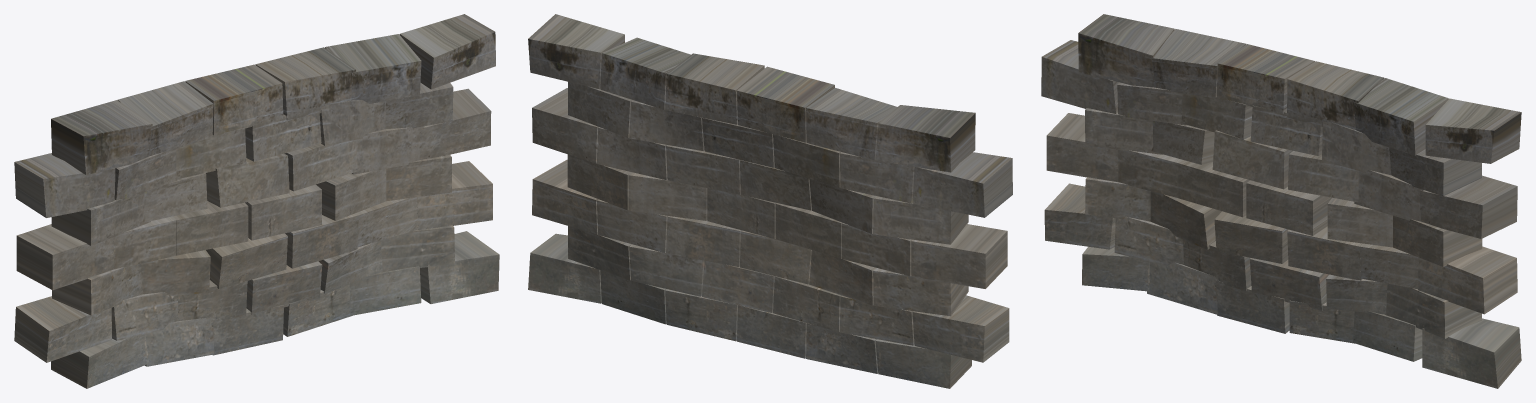
File: stone_wall.fbx
3 views of the same model, side by side, from view 1: azimuth 30°, elevation 25°; view 2: azimuth 150°, elevation 25°; view 3: azimuth 330°, elevation 25° (orthographic).
Parts seen in each view (by area): view 1: stone_wall; view 2: stone_wall; view 3: stone_wall.
Part boxes in pixels (<box>): stone_wall: <box>14,14,499,388</box>; stone_wall: <box>528,14,1012,388</box>; stone_wall: <box>1041,14,1521,388</box>.
Bounding box in the file's own units: 72.37 × 39.31 × 10.49.
